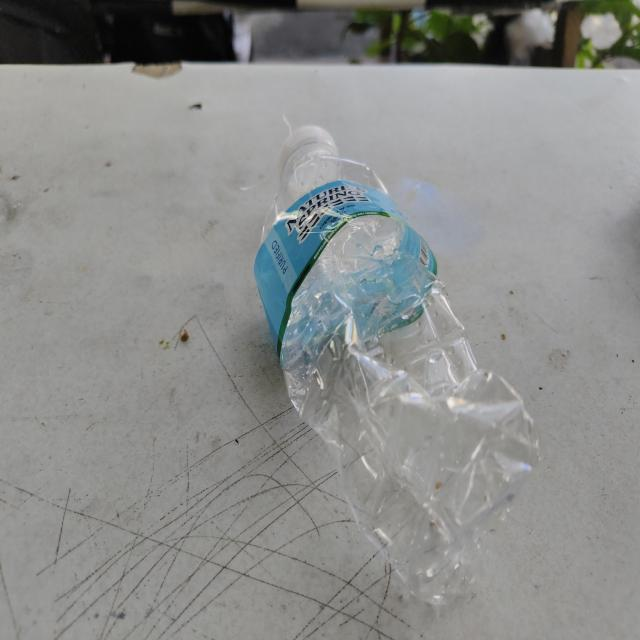Bottle: (254, 126, 539, 604)
